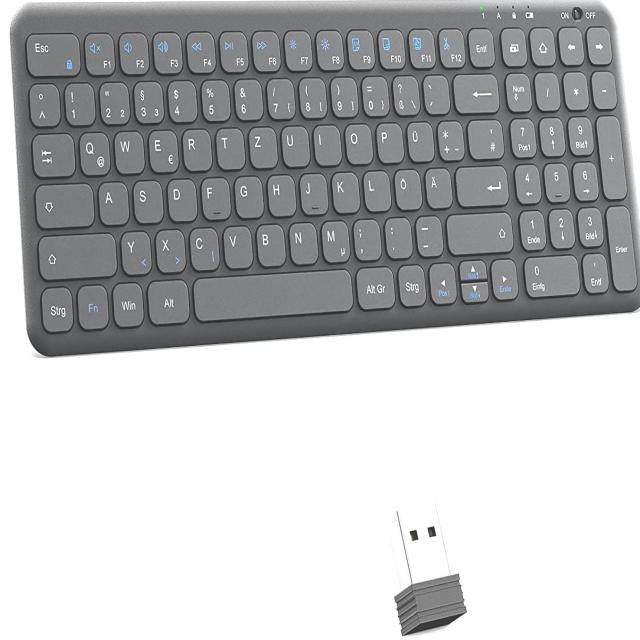0: (360, 73, 388, 115)
1: (63, 79, 94, 124)
2: (98, 79, 129, 123)
3: (131, 78, 163, 122)
4: (166, 77, 196, 120)
5: (199, 76, 229, 120)
6: (232, 76, 262, 119)
7: (265, 75, 293, 118)
8: (297, 74, 326, 117)
9: (328, 73, 357, 116)
a: (96, 178, 128, 223)
accent: (421, 71, 448, 112)
ae: (423, 165, 451, 207)
alt-left: (146, 276, 190, 323)
altgr-right: (354, 263, 395, 308)
b: (254, 220, 284, 265)
c: (187, 224, 218, 269)
caret: (27, 80, 59, 125)
comma: (351, 216, 380, 259)
d: (165, 175, 196, 220)
del: (452, 70, 499, 112)
e: (147, 127, 178, 171)
enter: (454, 162, 508, 205)
f: (199, 174, 229, 218)
g: (233, 173, 263, 217)
h: (265, 171, 295, 215)
hash: (466, 115, 503, 158)
i: (311, 121, 340, 164)
j: (298, 170, 326, 213)
k: (330, 168, 359, 212)
keyboard: (8, 0, 640, 357)
l: (362, 168, 390, 211)
m: (319, 217, 349, 261)
minus: (414, 213, 442, 255)
n: (287, 219, 317, 262)
o: (343, 120, 372, 163)
oe: (393, 166, 421, 208)
p: (375, 119, 403, 162)
plus: (435, 117, 463, 159)
point: (382, 214, 411, 257)
q: (77, 129, 110, 174)
r: (181, 126, 211, 169)
s: (131, 177, 162, 222)
shift-left: (37, 229, 117, 278)
shift-lock: (33, 180, 94, 227)
shift-right: (445, 209, 512, 252)
space: (191, 267, 351, 320)
ss: (390, 72, 418, 114)
strg-left: (38, 284, 73, 332)
strg-right: (396, 262, 425, 305)
t: (214, 125, 244, 168)
tab: (29, 130, 74, 176)
u: (280, 122, 309, 165)
ue: (405, 119, 433, 160)
v: (221, 222, 252, 267)
w: (112, 127, 143, 172)
x: (154, 226, 185, 271)
y: (120, 228, 151, 273)
z: (247, 124, 276, 167)
